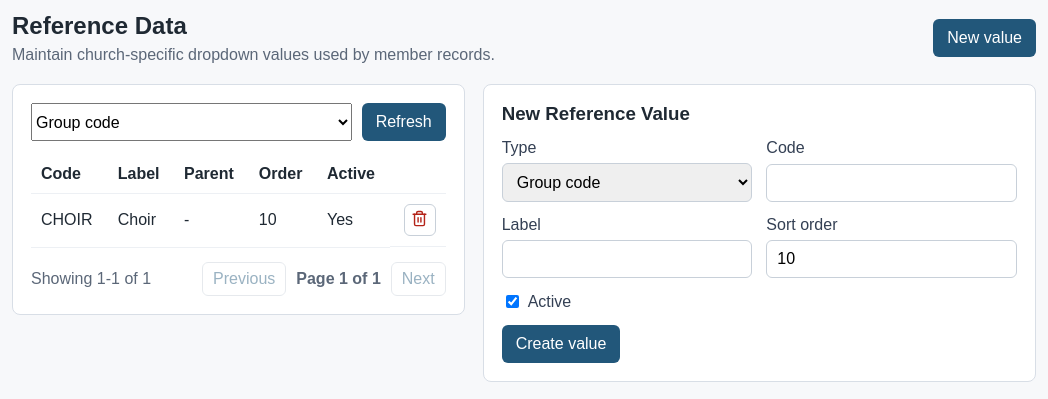
Test: ReferenceDataView › keeps type and code read-only after selecting an existing value
Click the text "Choir" at (141, 220), box [108, 194, 174, 247]
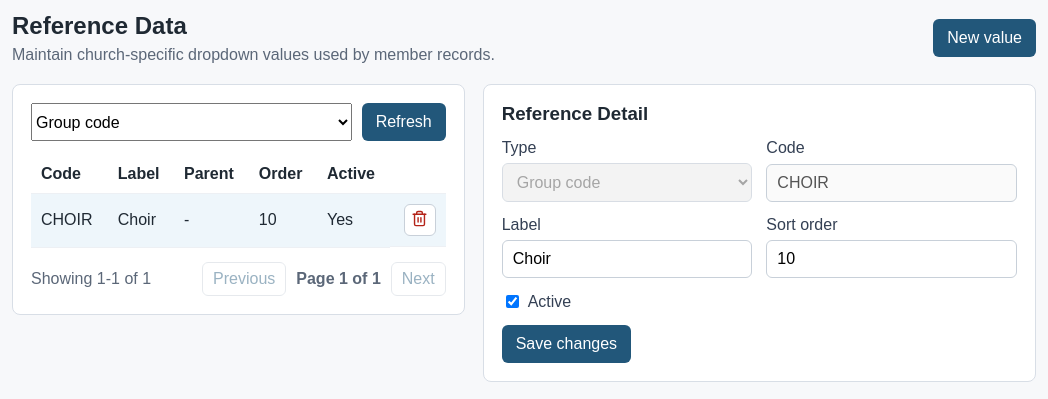
Now the dropdown labelled "Type" is disabled, box [502, 163, 752, 202]
Now the field labelled "Code" is disabled, box [766, 164, 1017, 202]
